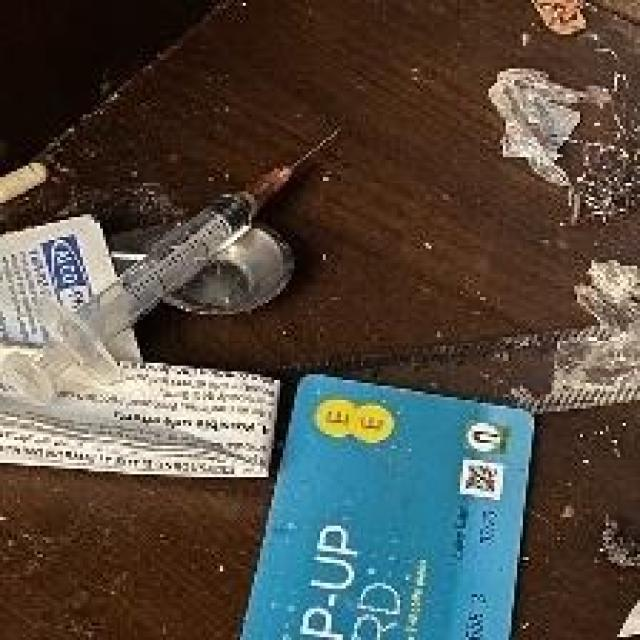syringe: (40, 166, 307, 425)
